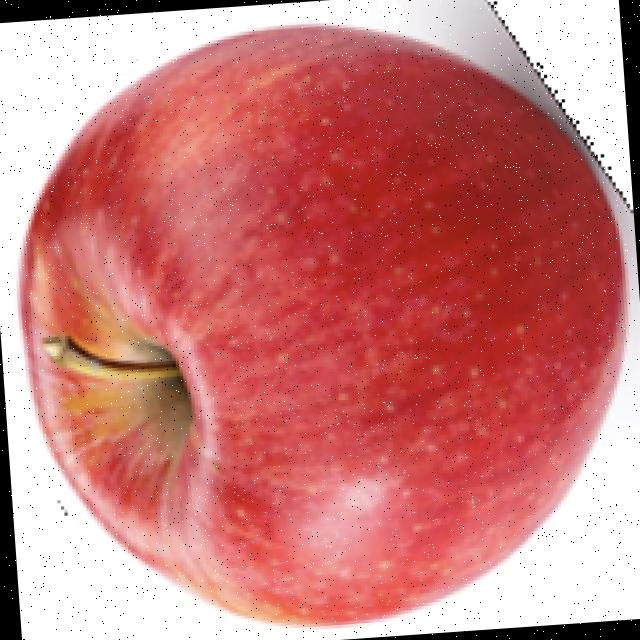apple: (10, 2, 633, 633)
